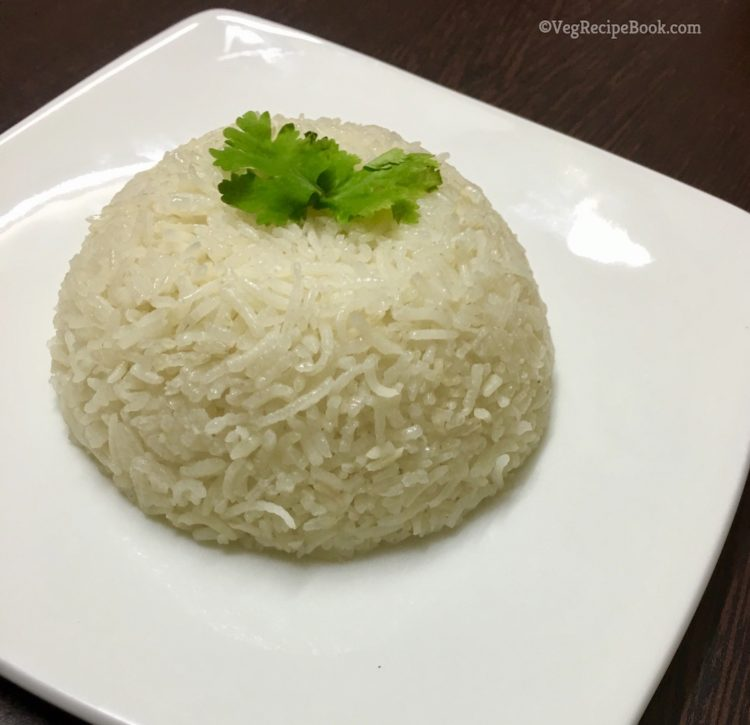plain rice: (91, 243, 516, 525)
